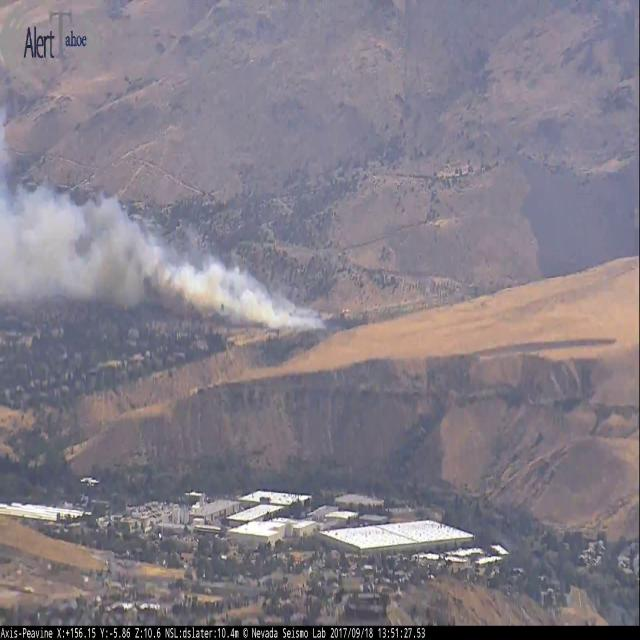smoke: (0, 134, 336, 342)
